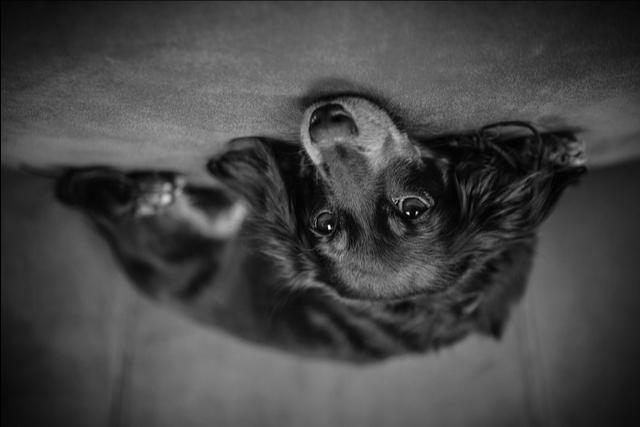Non_Gorille: (51, 47, 581, 402)
